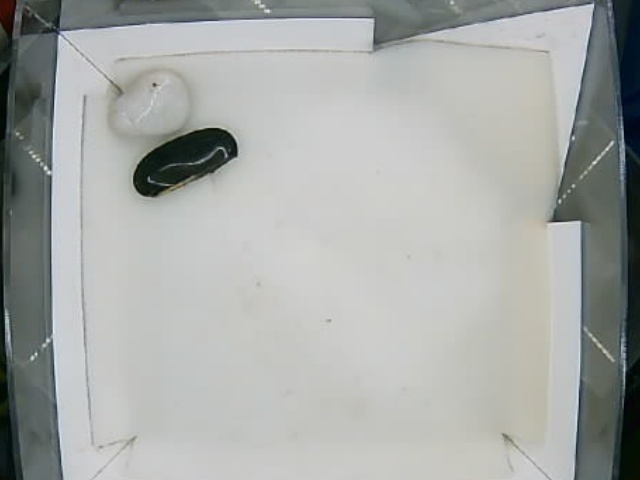Pebble: (136, 128, 242, 200), (112, 71, 190, 138)
